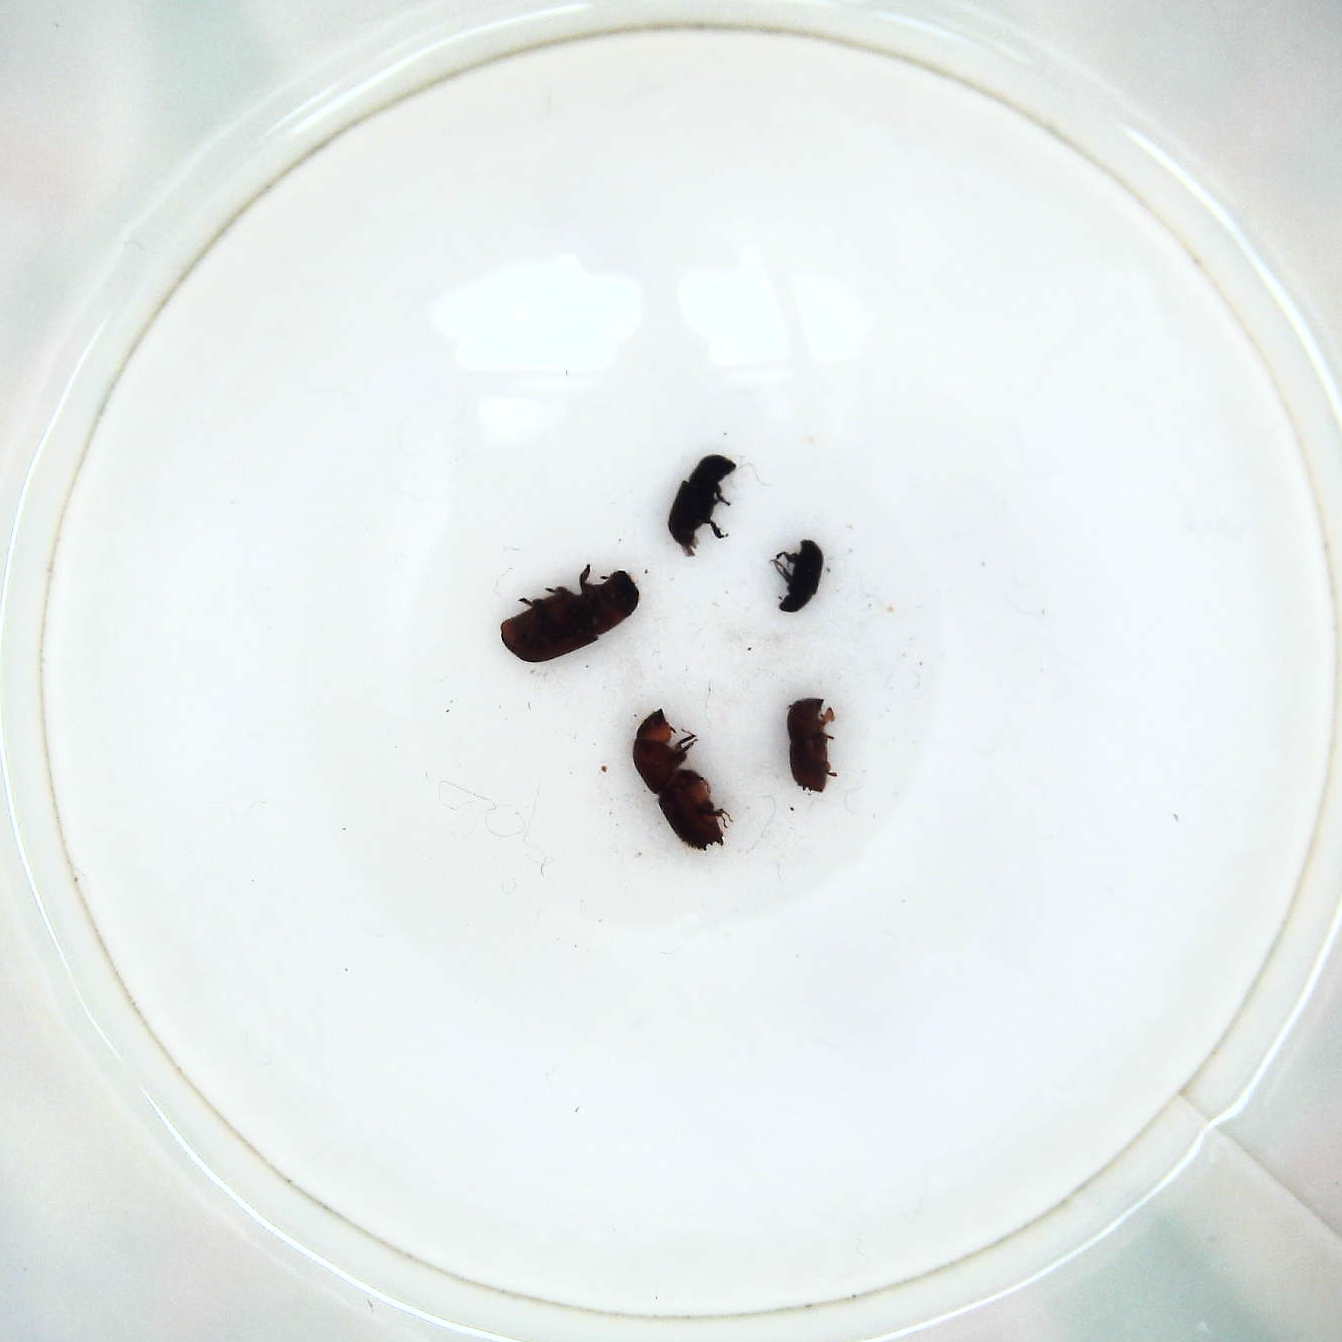Boerner: (629, 700, 736, 854)
Leconte: (492, 560, 648, 664)
armandi: (670, 449, 739, 554)
coleoptera: (771, 532, 831, 622)
linnaeus: (782, 688, 842, 795)
